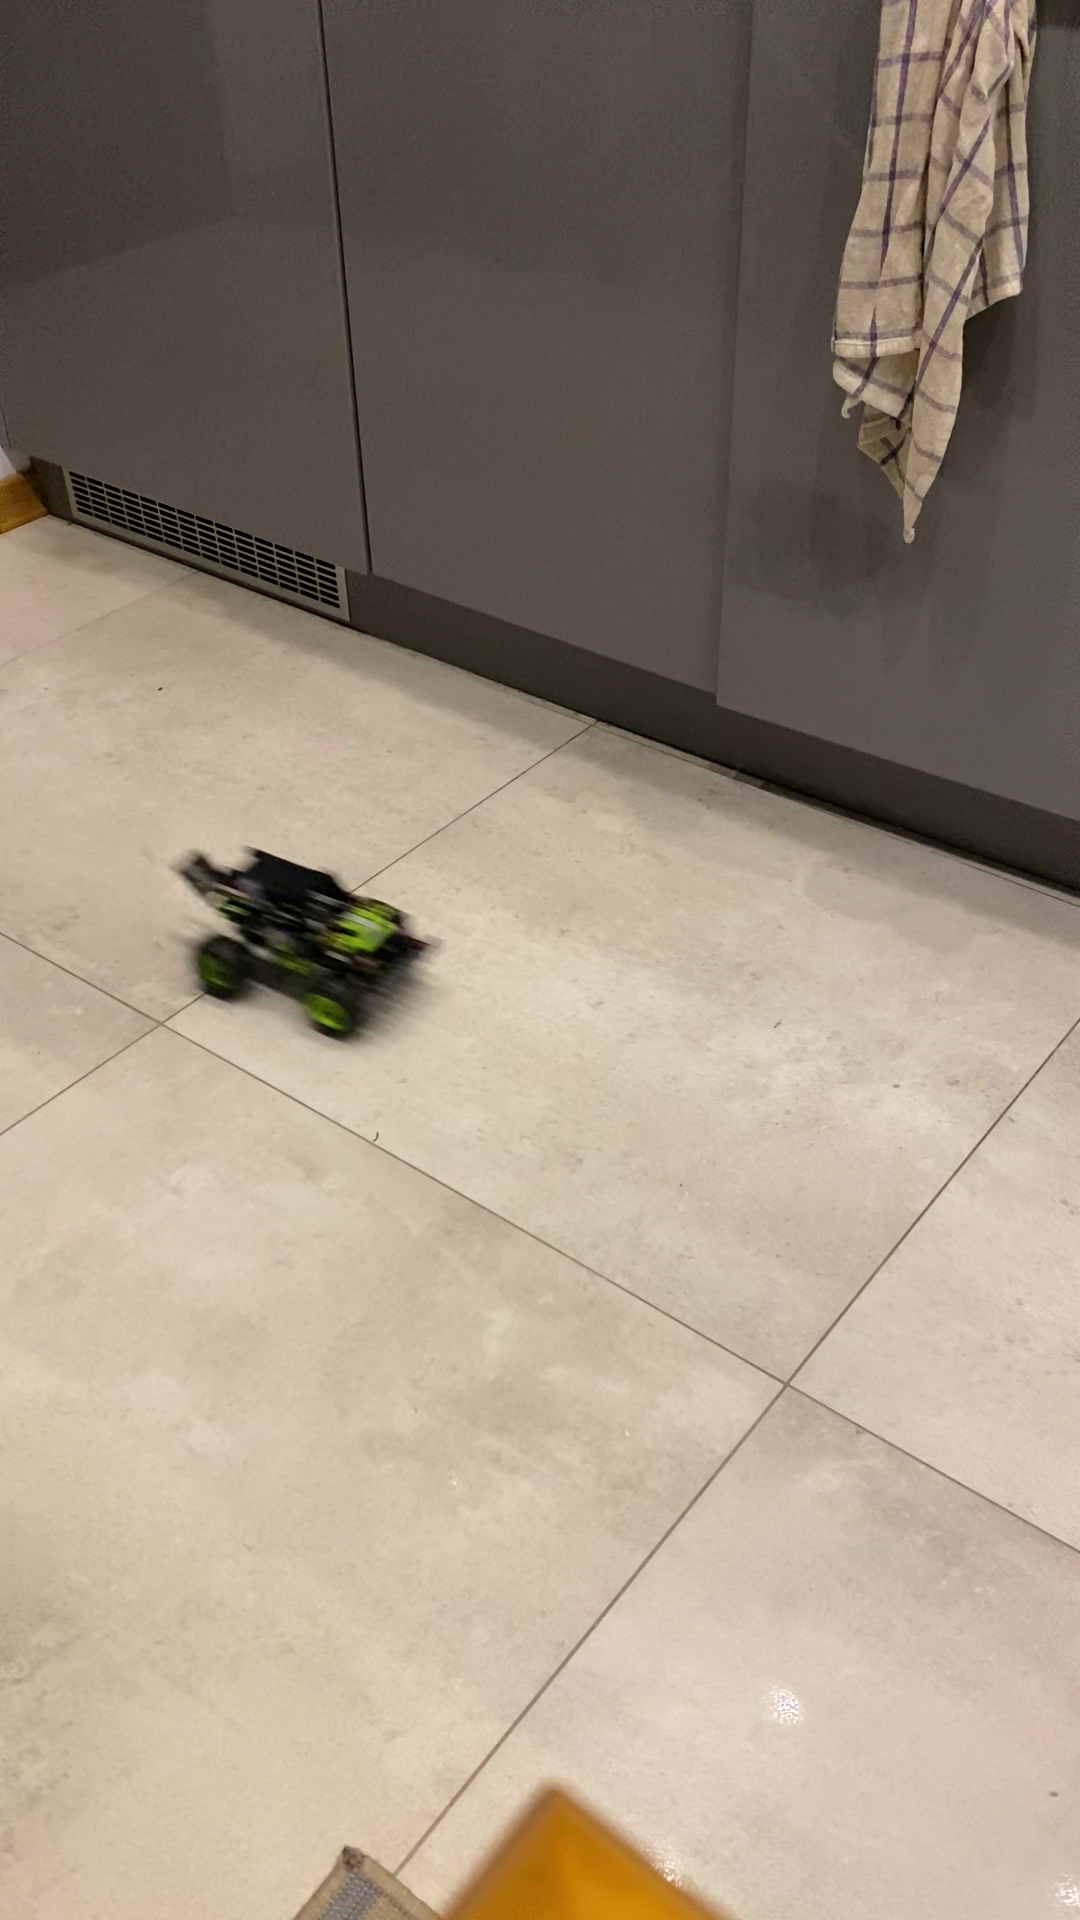car: (195, 852, 433, 1052)
